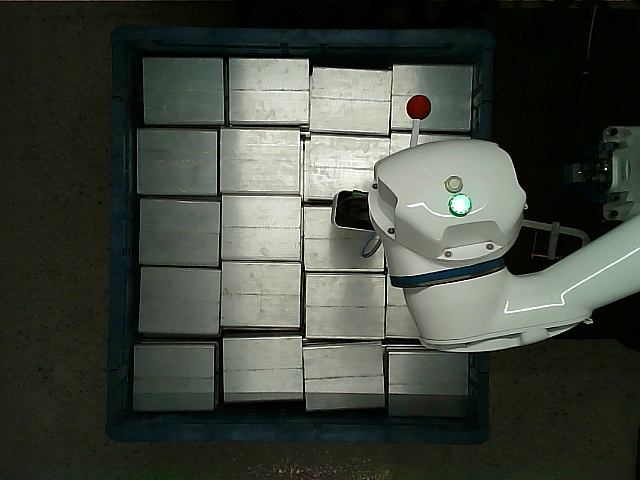green_light: (448, 193, 471, 216)
